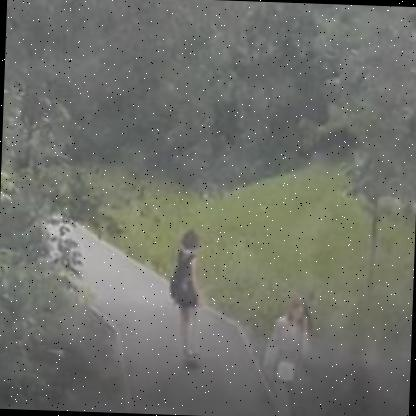person: (159, 224, 221, 382), (256, 295, 320, 416)
